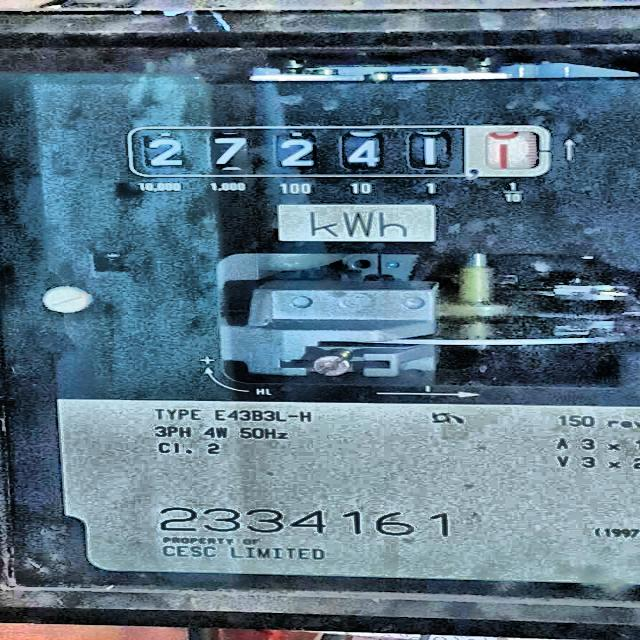Analog: (2, 10, 640, 631)
Reading: (131, 133, 533, 173)
Serial No.: (159, 504, 451, 536)
